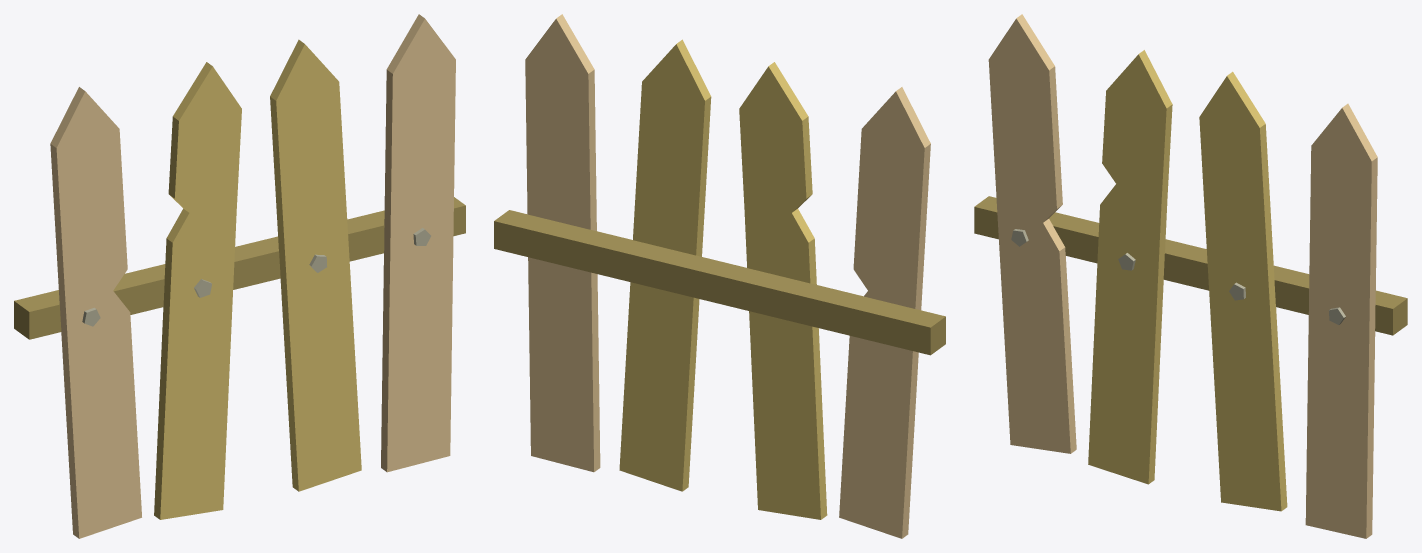
The model's file is fence_destroy.fbx.
3 views of the same model, side by side, from view 1: azimuth 30°, elevation 25°; view 2: azimuth 150°, elevation 25°; view 3: azimuth 330°, elevation 25° (orthographic). The views are drawn at different scales.
Visible parts, largest first — view 1: fence.005, fence.004, fence.003, fence.002, fence_destroy; view 2: fence.005, fence.004, fence.003, fence.002, fence_destroy; view 3: fence.004, fence.005, fence.002, fence.003, fence_destroy.
Part boxes in pixels (bbox=[...]): fence.005: bbox=[381, 14, 455, 472]; fence.004: bbox=[270, 39, 361, 491]; fence.003: bbox=[154, 62, 241, 519]; fence.002: bbox=[50, 87, 141, 538]; fence_destroy: bbox=[14, 197, 465, 339]; fence.005: bbox=[525, 14, 600, 472]; fence.004: bbox=[619, 39, 711, 491]; fence.003: bbox=[739, 62, 827, 519]; fence.002: bbox=[839, 87, 930, 538]; fence_destroy: bbox=[494, 210, 945, 355]; fence.004: bbox=[1199, 71, 1287, 511]; fence.005: bbox=[1305, 103, 1377, 538]; fence.002: bbox=[988, 14, 1076, 453]; fence.003: bbox=[1088, 50, 1172, 484]; fence_destroy: bbox=[974, 196, 1407, 335].
Bounding box in the file's own units: 199 × 198 × 18.66.
